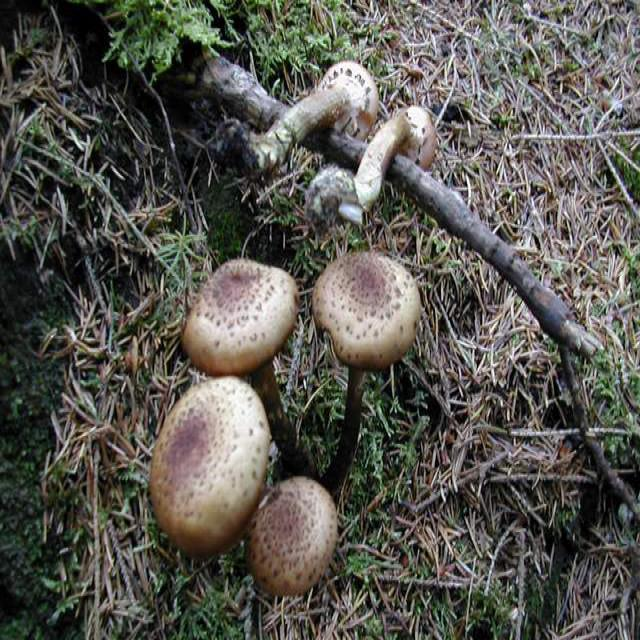Armillaria mellea: (150, 258, 424, 593), (261, 58, 377, 161), (359, 101, 435, 204)
